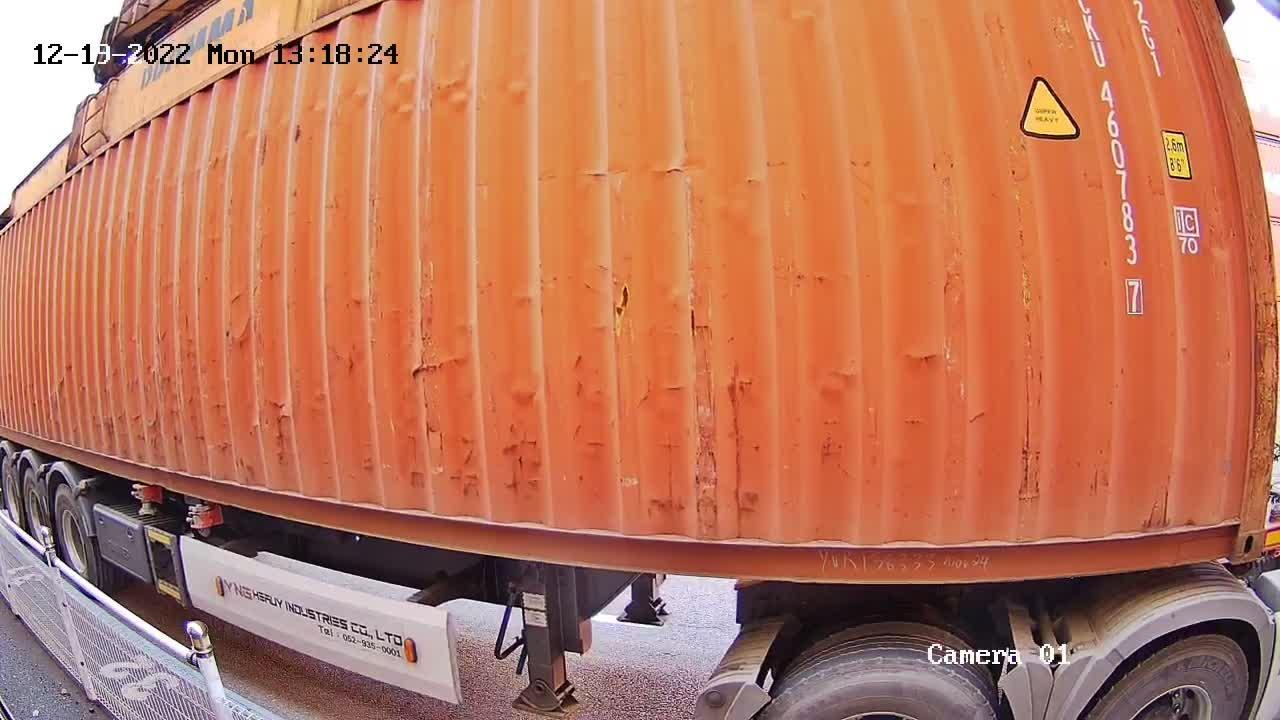Hole_R: (1198, 497, 1270, 561)
Tire: (1092, 635, 1248, 719), (769, 656, 994, 710), (55, 494, 96, 580), (22, 473, 46, 538), (3, 462, 21, 522)
